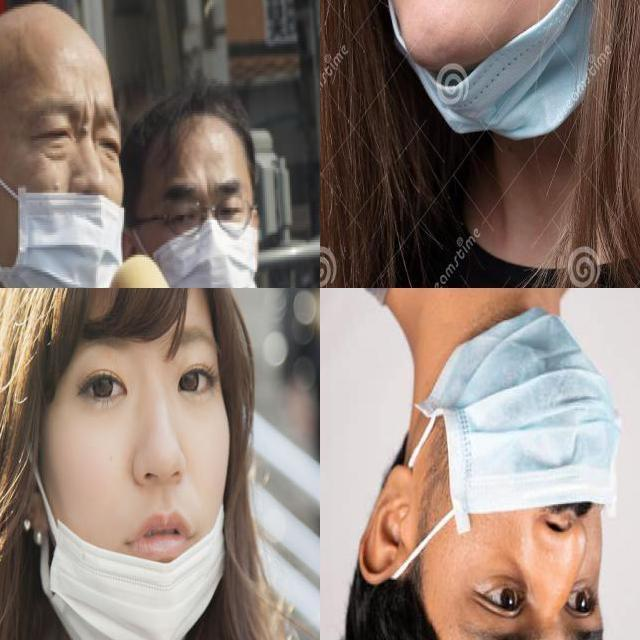hairnet: (425, 341, 613, 580), (50, 438, 229, 639), (4, 145, 124, 287)
